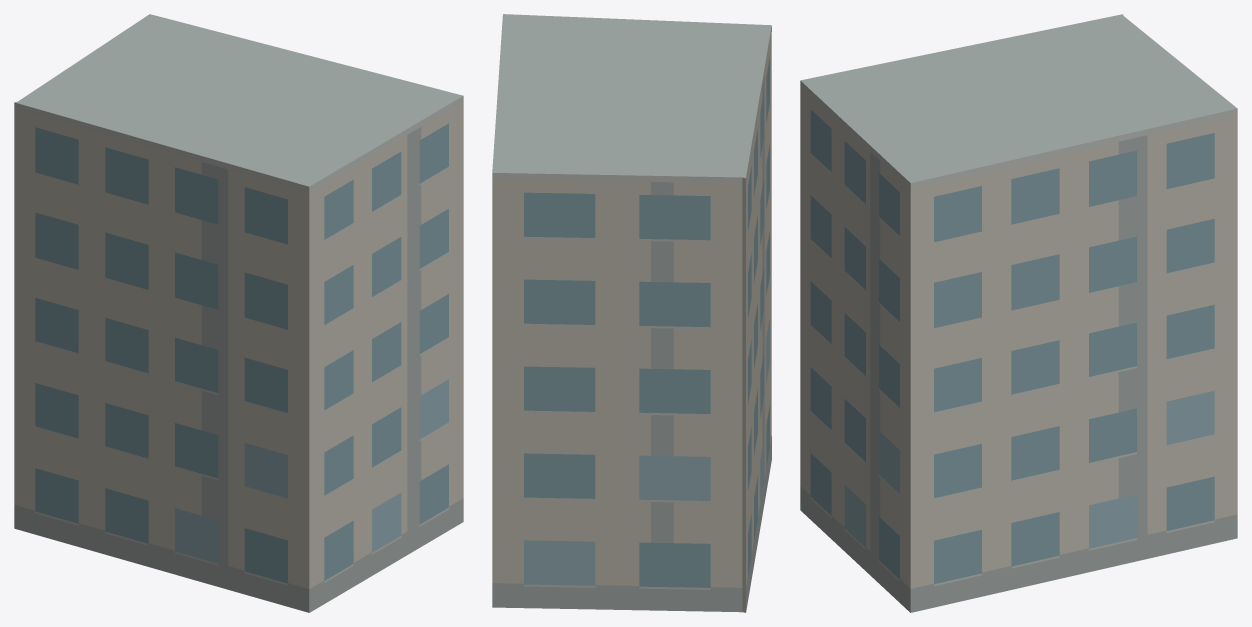
Rendered from survey-upis-33029504.glb.
3 renders of one model, left to right at view 1: azimuth 30°, elevation 25°; view 2: azimuth 150°, elevation 25°; view 3: azimuth 270°, elevation 25°, orthographic.
Visible parts, largest first — view 1: survey-upis-33029504.tmp; view 2: survey-upis-33029504.tmp; view 3: survey-upis-33029504.tmp.
Part boxes in pixels (bbox=[...]): survey-upis-33029504.tmp: bbox=[14, 14, 463, 612]; survey-upis-33029504.tmp: bbox=[492, 14, 771, 612]; survey-upis-33029504.tmp: bbox=[800, 14, 1237, 612].
Bounding box in the file's own units: 14.57 × 17.25 × 15.92.
